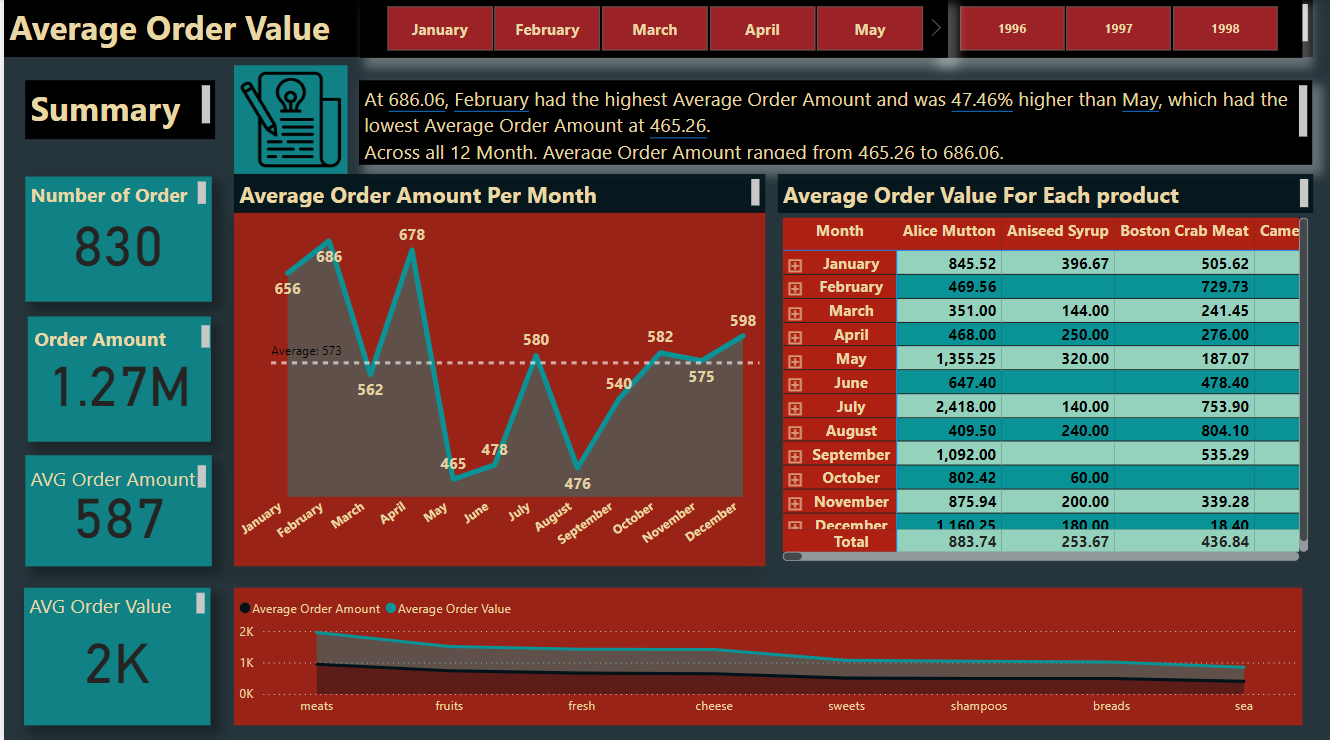

The dashboard page shown, as its layout file describes it:
{"tool":"powerbi","page":{"name":"Average","canvas":[1280,720],"ordinal":1},"visuals":[{"type":"textbox","box":[0,0,1263.5,56],"z":0},{"type":"textbox","box":[343.2,78.4,920.3,81.2],"z":1000},{"type":"slicer","fields":{"Values":["Calender.Date.Variation.Date Hierarchy.Year"]},"box":[896.1,0,357,56.7],"z":2000},{"type":"card","fields":{"Values":["Orders.Number of Order"]},"box":[20.2,171.8,179.8,120.8],"z":3000},{"type":"textbox","box":[20.2,171.8,179.8,32.9],"z":4000},{"type":"card","fields":{"Values":["OrdersDetails.Order Amount"]},"box":[22.7,306.8,177,120.8],"z":5000},{"type":"textbox","box":[23.8,309.8,179.8,32.9],"z":6000},{"type":"card","fields":{"Values":["OrdersDetails.Average Order Amount"]},"box":[20.5,440.2,179.7,107.3],"z":7000},{"type":"textbox","box":[19.9,445.4,179.8,32.9],"z":8000},{"type":"areaChart","fields":{"Category":["Calender.Month"],"Y":["OrdersDetails.Average Order Amount"]},"box":[221.9,205,512.6,342.5],"z":9000},{"type":"textbox","box":[221.9,168.8,512.6,37.4],"z":10000},{"type":"pivotTable","title":"UNIT SOLD","fields":{"Rows":["Calender.Month","Calender.year"],"Values":["OrdersDetails.Average Order Amount"],"Columns":["Product.ProductName"]},"box":[746.5,206.2,517.4,341.3],"z":11000},{"type":"textbox","box":[746.6,169.5,516.9,37.8],"z":12000},{"type":"textbox","box":[20.5,78.4,183.3,56.7],"z":13000},{"type":"slicer","fields":{"Values":["Calender.Month"]},"box":[343.7,0,566.8,56.7],"z":14000},{"type":"image","box":[221.9,63.9,109.7,104.9],"z":15000},{"type":"card","fields":{"Values":["OrdersDetails.Average Order Value"]},"box":[19.3,568,179.7,132.7],"z":16000},{"type":"textbox","box":[19.3,568,179.7,32.6],"z":17000},{"type":"stackedAreaChart","fields":{"Category":["Categories.CategoryName"],"Y":["OrdersDetails.Average Order Amount","OrdersDetails.Average Order Value"]},"box":[221.9,568,1031.2,132.7],"z":18000}]}

Visuals, with their boxes in screenshot pixels (x1, y1, x2, y2), scaled from the page's 1280x720 canvas onto the 1330x740 screenshot:
textbox: [0,0,1313,58]
textbox: [357,81,1313,164]
slicer - Calender.Date.Variation.Date Hierarchy.Year: [931,0,1302,58]
card - Orders.Number of Order: [21,177,208,301]
textbox: [21,177,208,210]
card - OrdersDetails.Order Amount: [24,315,208,439]
textbox: [25,318,212,352]
card - OrdersDetails.Average Order Amount: [21,452,208,563]
textbox: [21,458,208,492]
areaChart - Calender.Month x OrdersDetails.Average Order Amount: [231,211,763,563]
textbox: [231,173,763,212]
"UNIT SOLD" pivotTable: [776,212,1313,563]
textbox: [776,174,1313,213]
textbox: [21,81,212,139]
slicer - Calender.Month: [357,0,946,58]
image: [231,66,345,173]
card - OrdersDetails.Average Order Value: [20,584,207,720]
textbox: [20,584,207,617]
stackedAreaChart - Categories.CategoryName x OrdersDetails.Average Order Amount: [231,584,1302,720]
